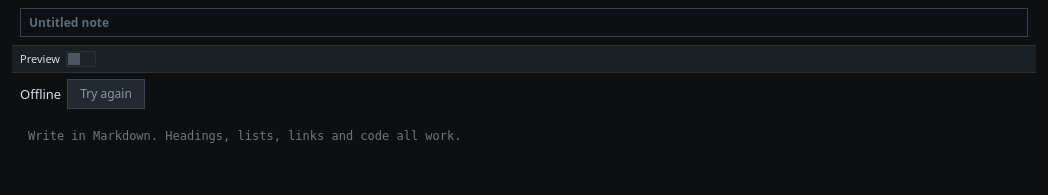
Test: retries loading errors without saving an empty editor over the note
Expected: the message "Offline Try again" is shown, [20, 79, 145, 109]
Expected: the text box with class "note-editor" is disabled, [12, 115, 1036, 178]
Click the button "Try again".
click(106, 94)  # box [67, 79, 145, 109]
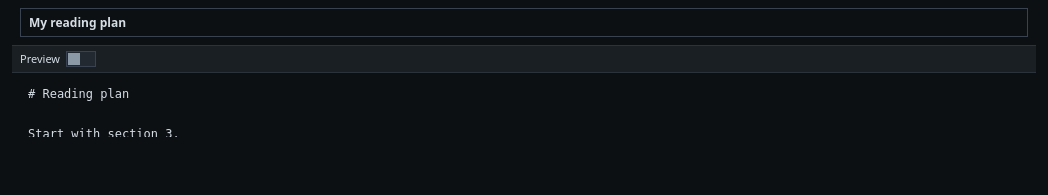
Result: the message "Offline Try again" is gone
